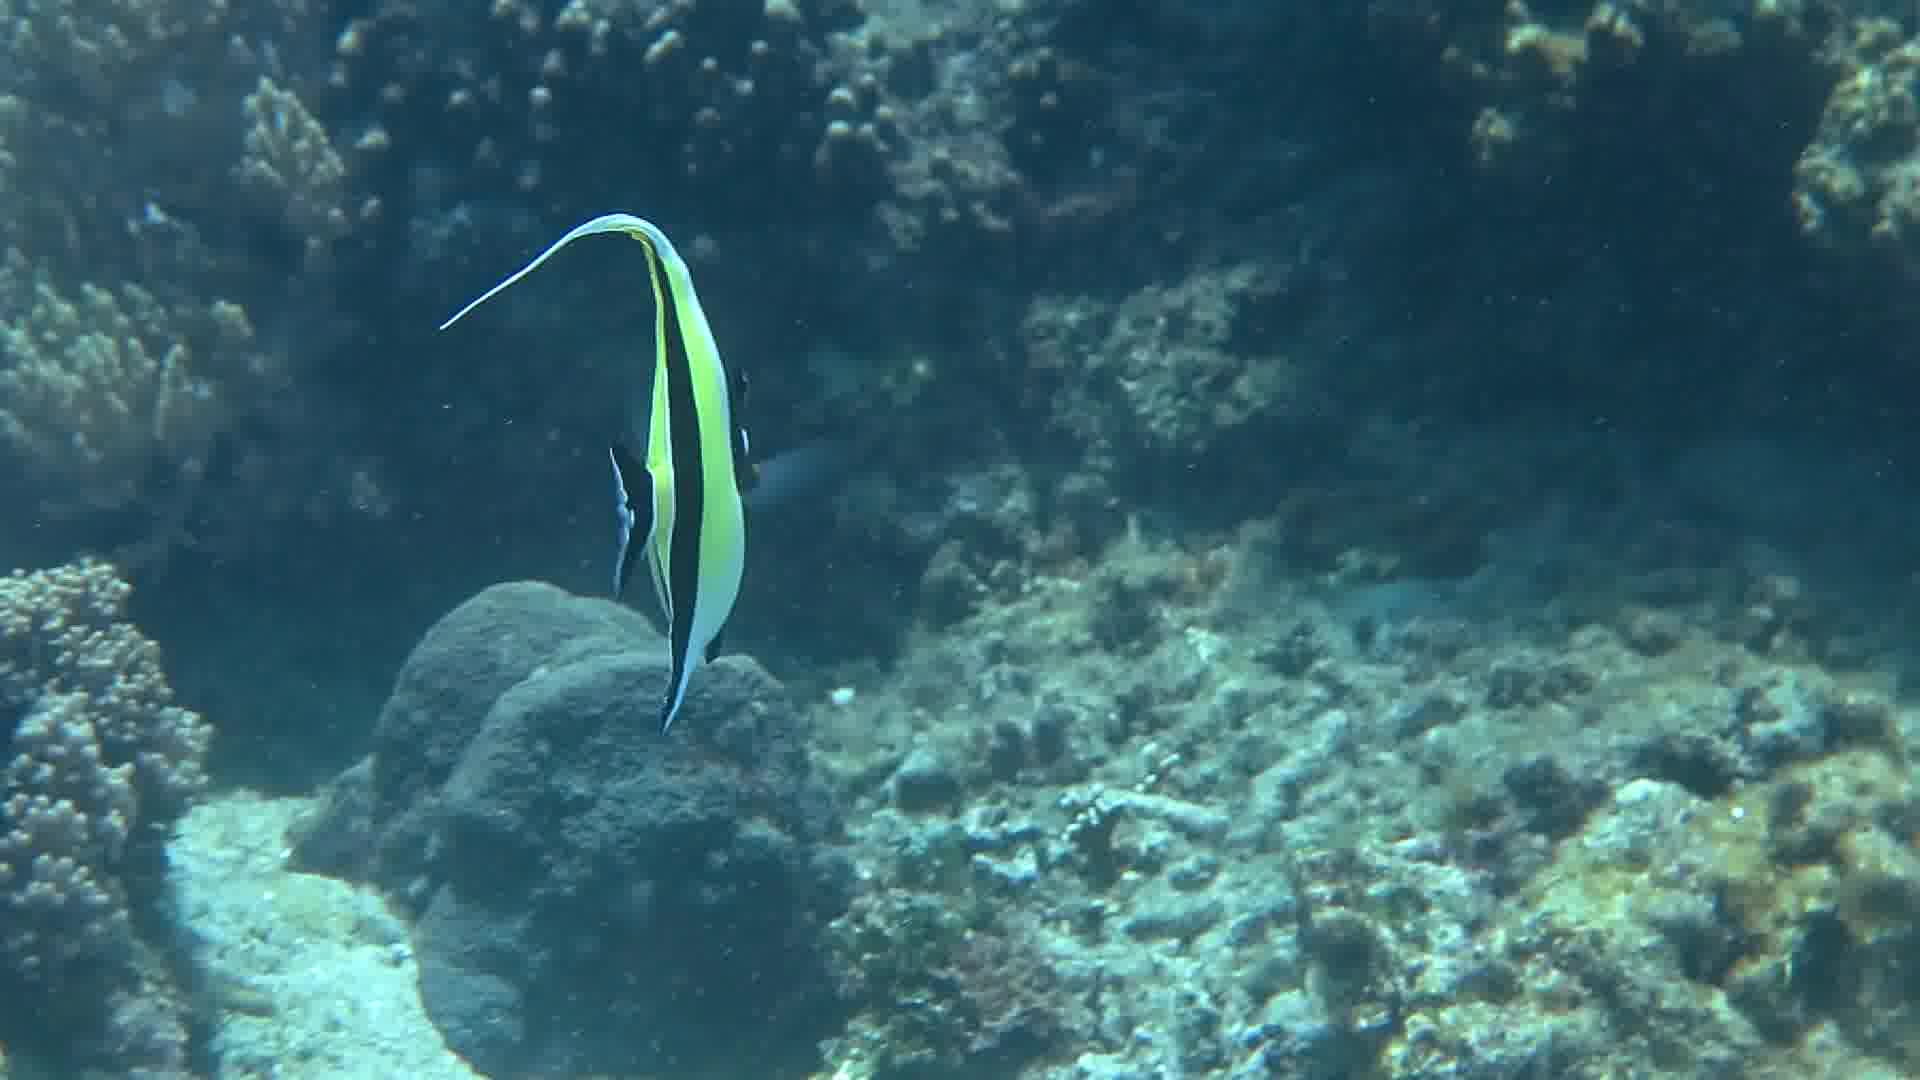Zanclus cornutus: (564, 200, 824, 753)
